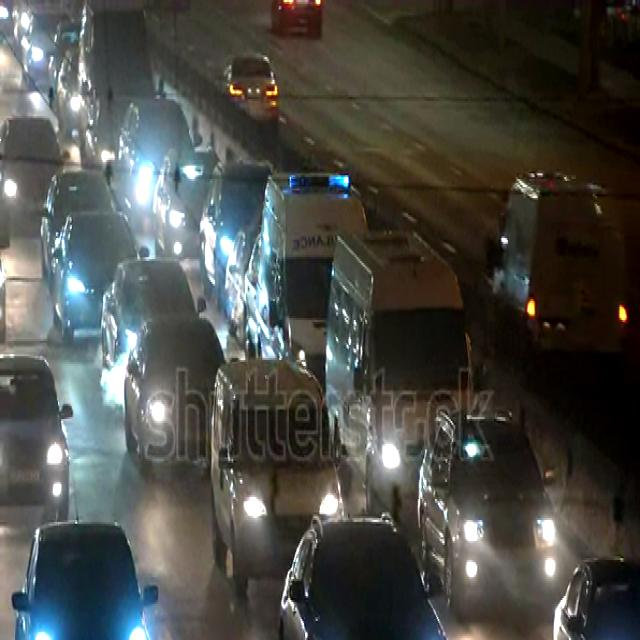ambulance: (256, 171, 372, 406)
